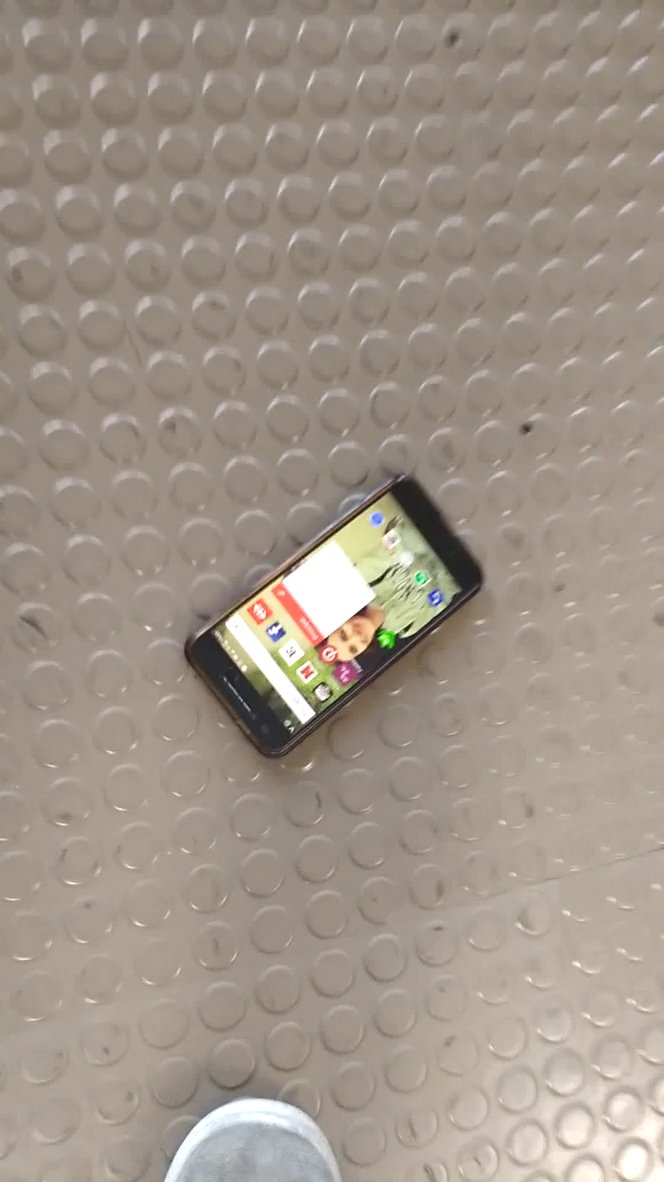phone: (170, 458, 509, 779)
